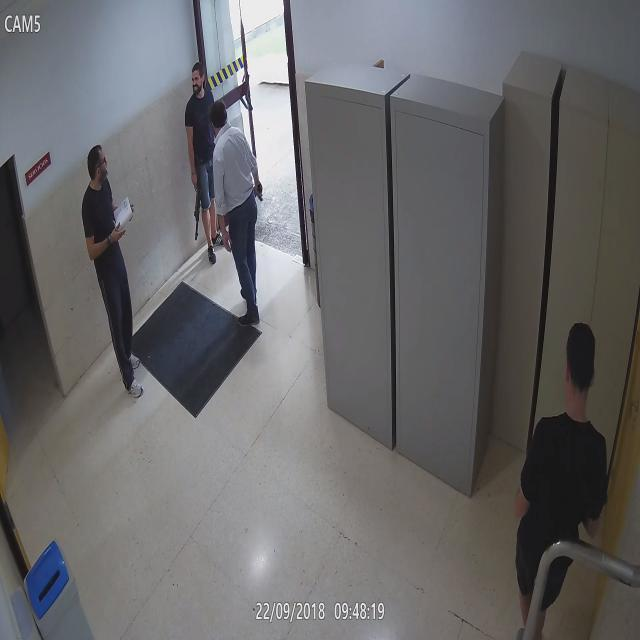Gun: (253, 180, 266, 202)
